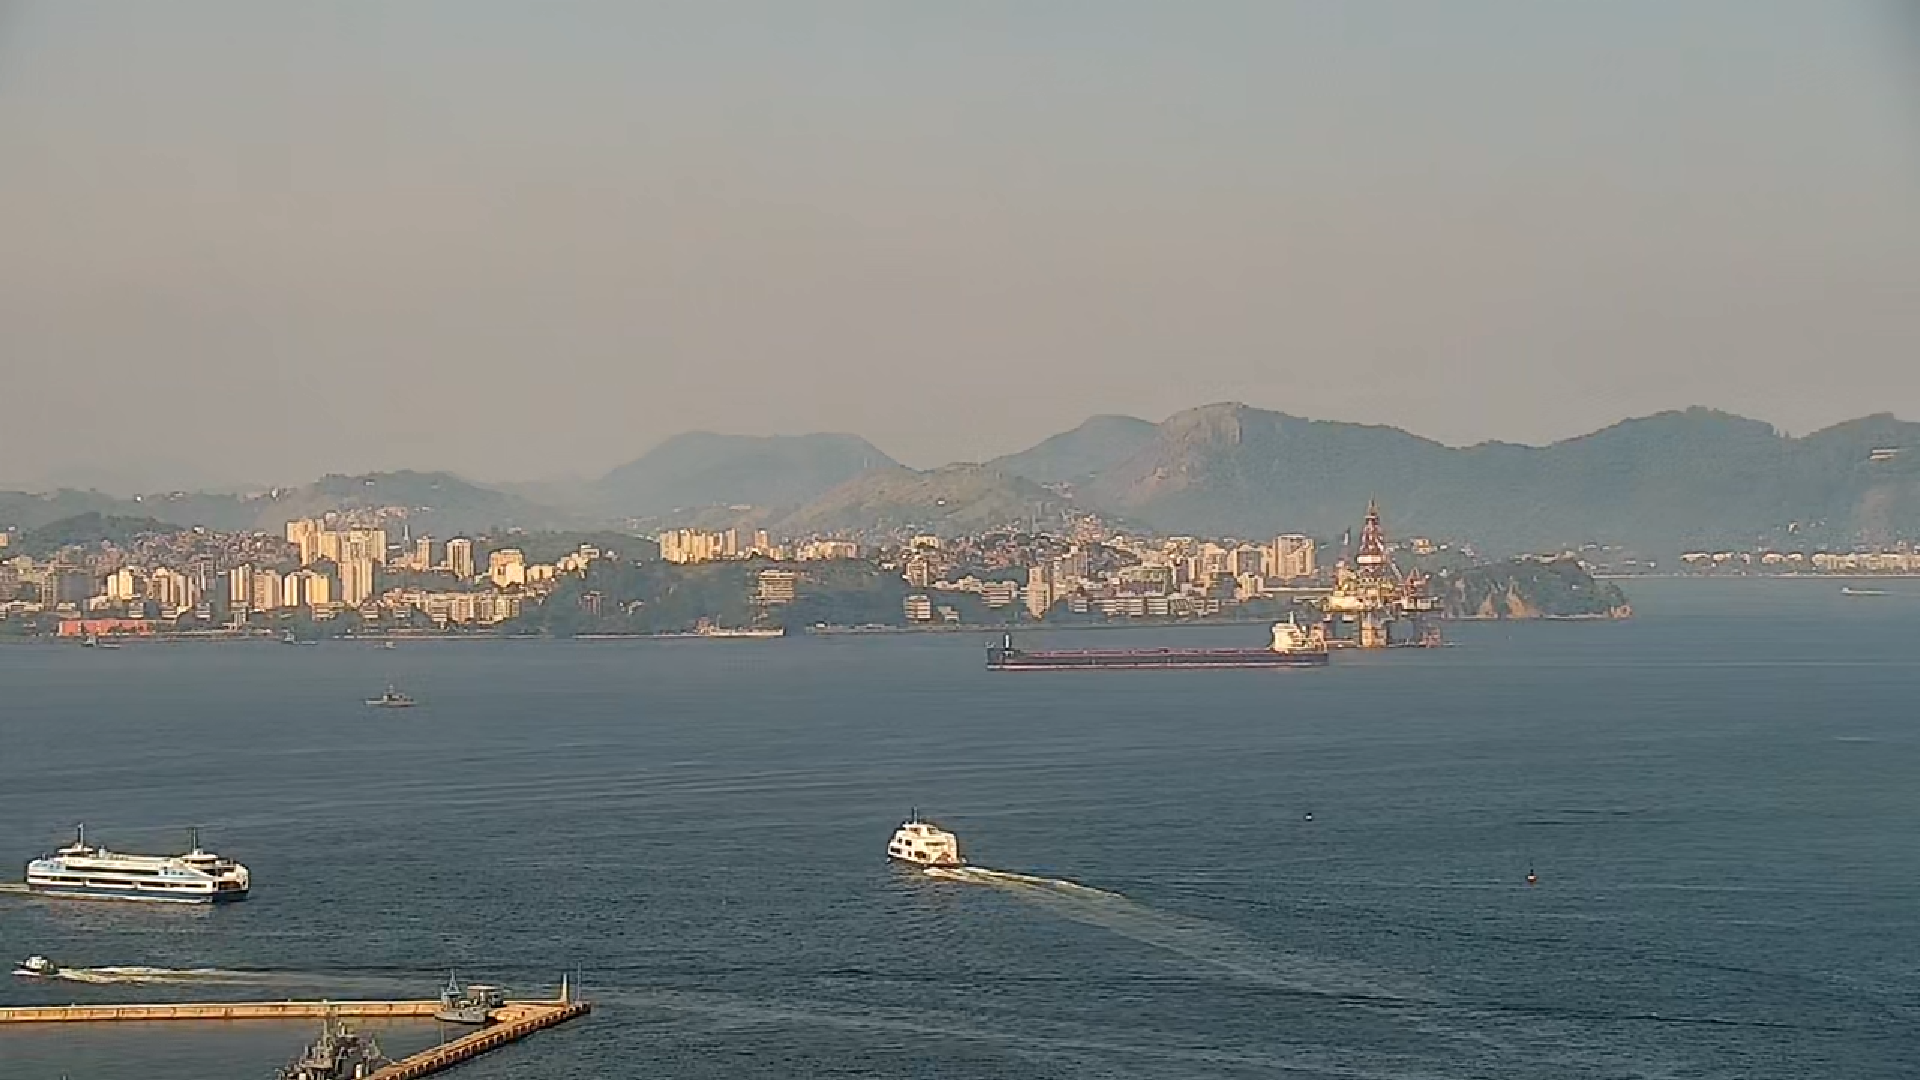Ship1: (877, 804, 965, 873)
Ship2: (980, 630, 1335, 671)
Ship6: (12, 948, 62, 978)
Ship7: (357, 683, 422, 709)
